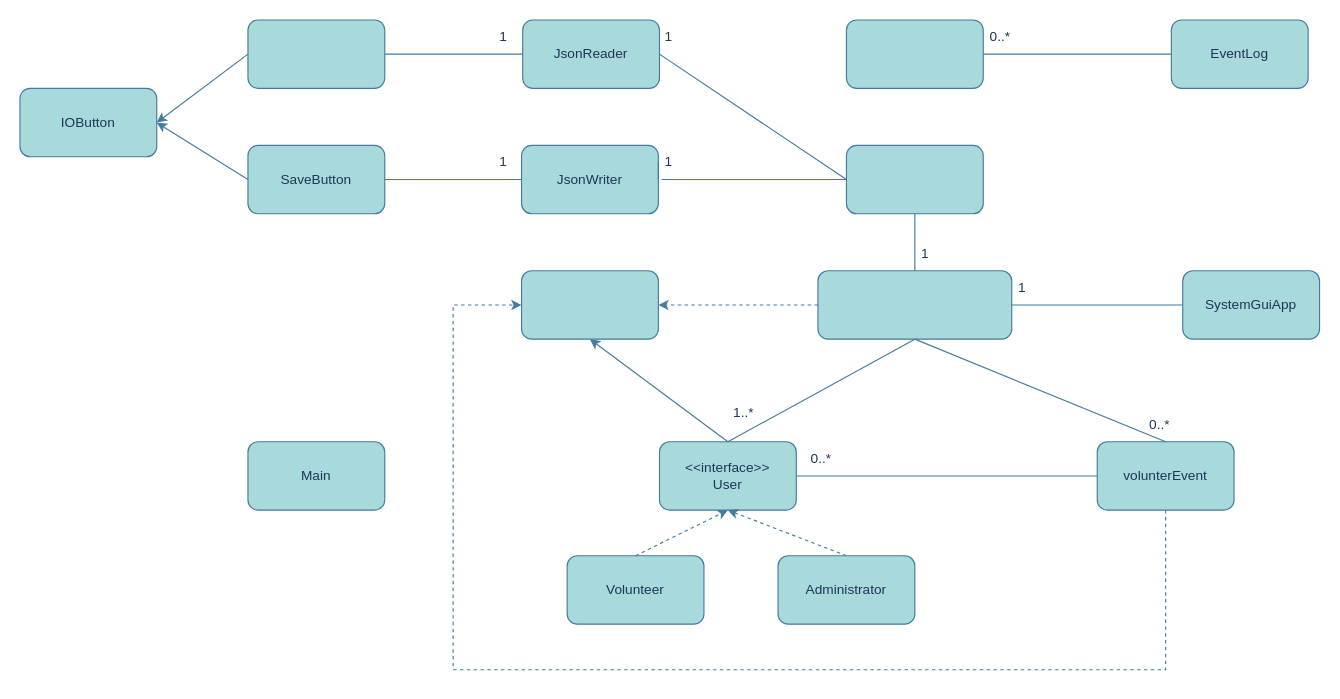
The diagram is 1340 pixels wide and 699 high, and some of its shapes have lost their labels. Here are the shapes that lost their labels. From the top down, the centre of each, then its label:
the point at 316,53: LoadButton
the point at 914,53: Event
the point at 914,179: SystemApp
the point at 589,304: <<interface>> Writable
the point at 914,304: ManagementSystem
